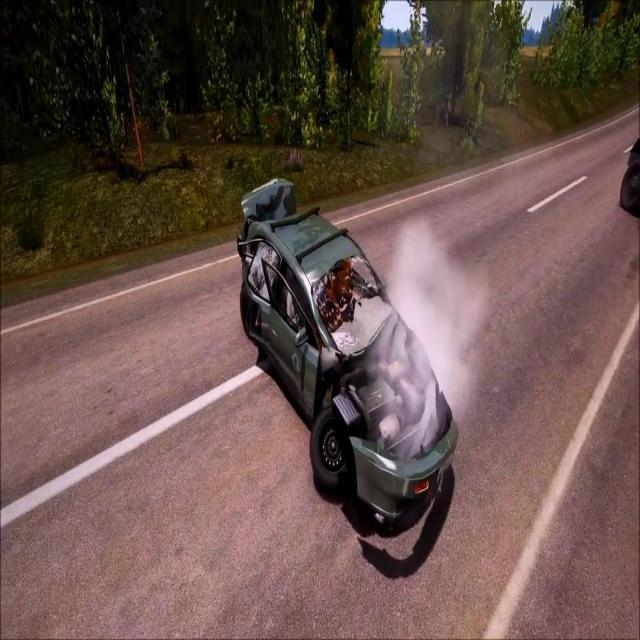accident: (233, 173, 467, 529)
